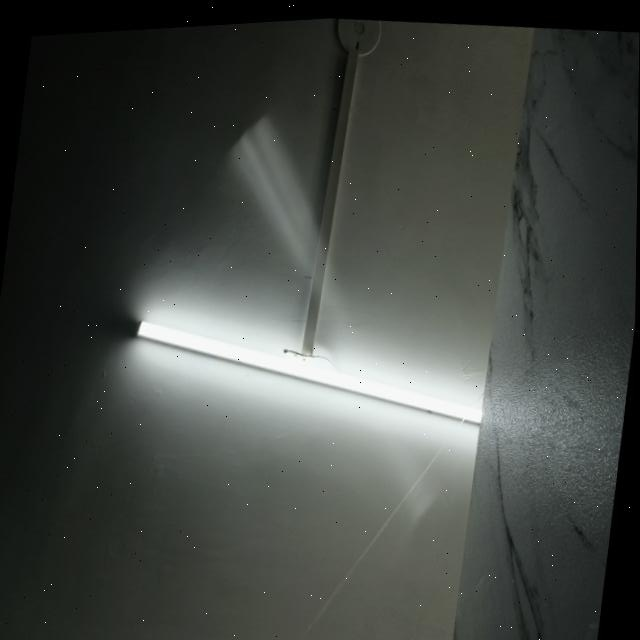fluorescent tube: (118, 288, 496, 463)
